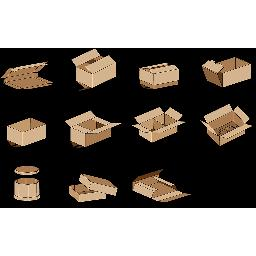cardboard: (58, 103, 127, 158), (66, 45, 130, 99), (53, 168, 129, 213), (197, 99, 256, 154), (128, 103, 193, 151), (198, 52, 256, 94), (137, 51, 182, 98), (0, 108, 50, 150)
